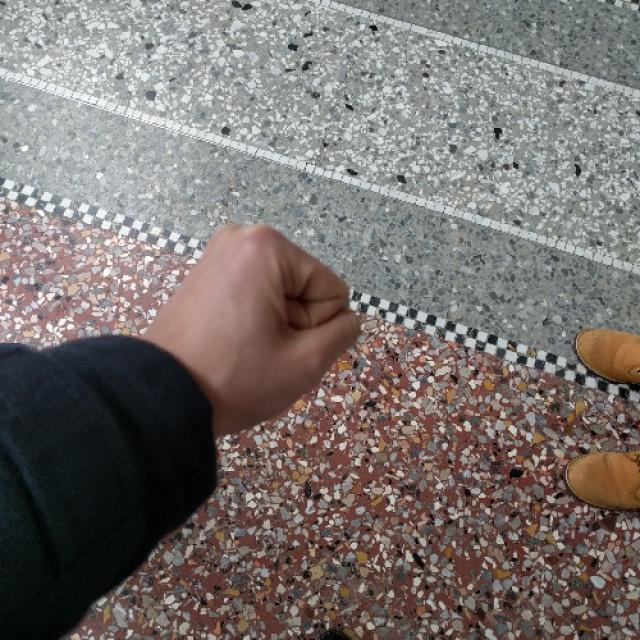fist: (134, 210, 366, 448)
